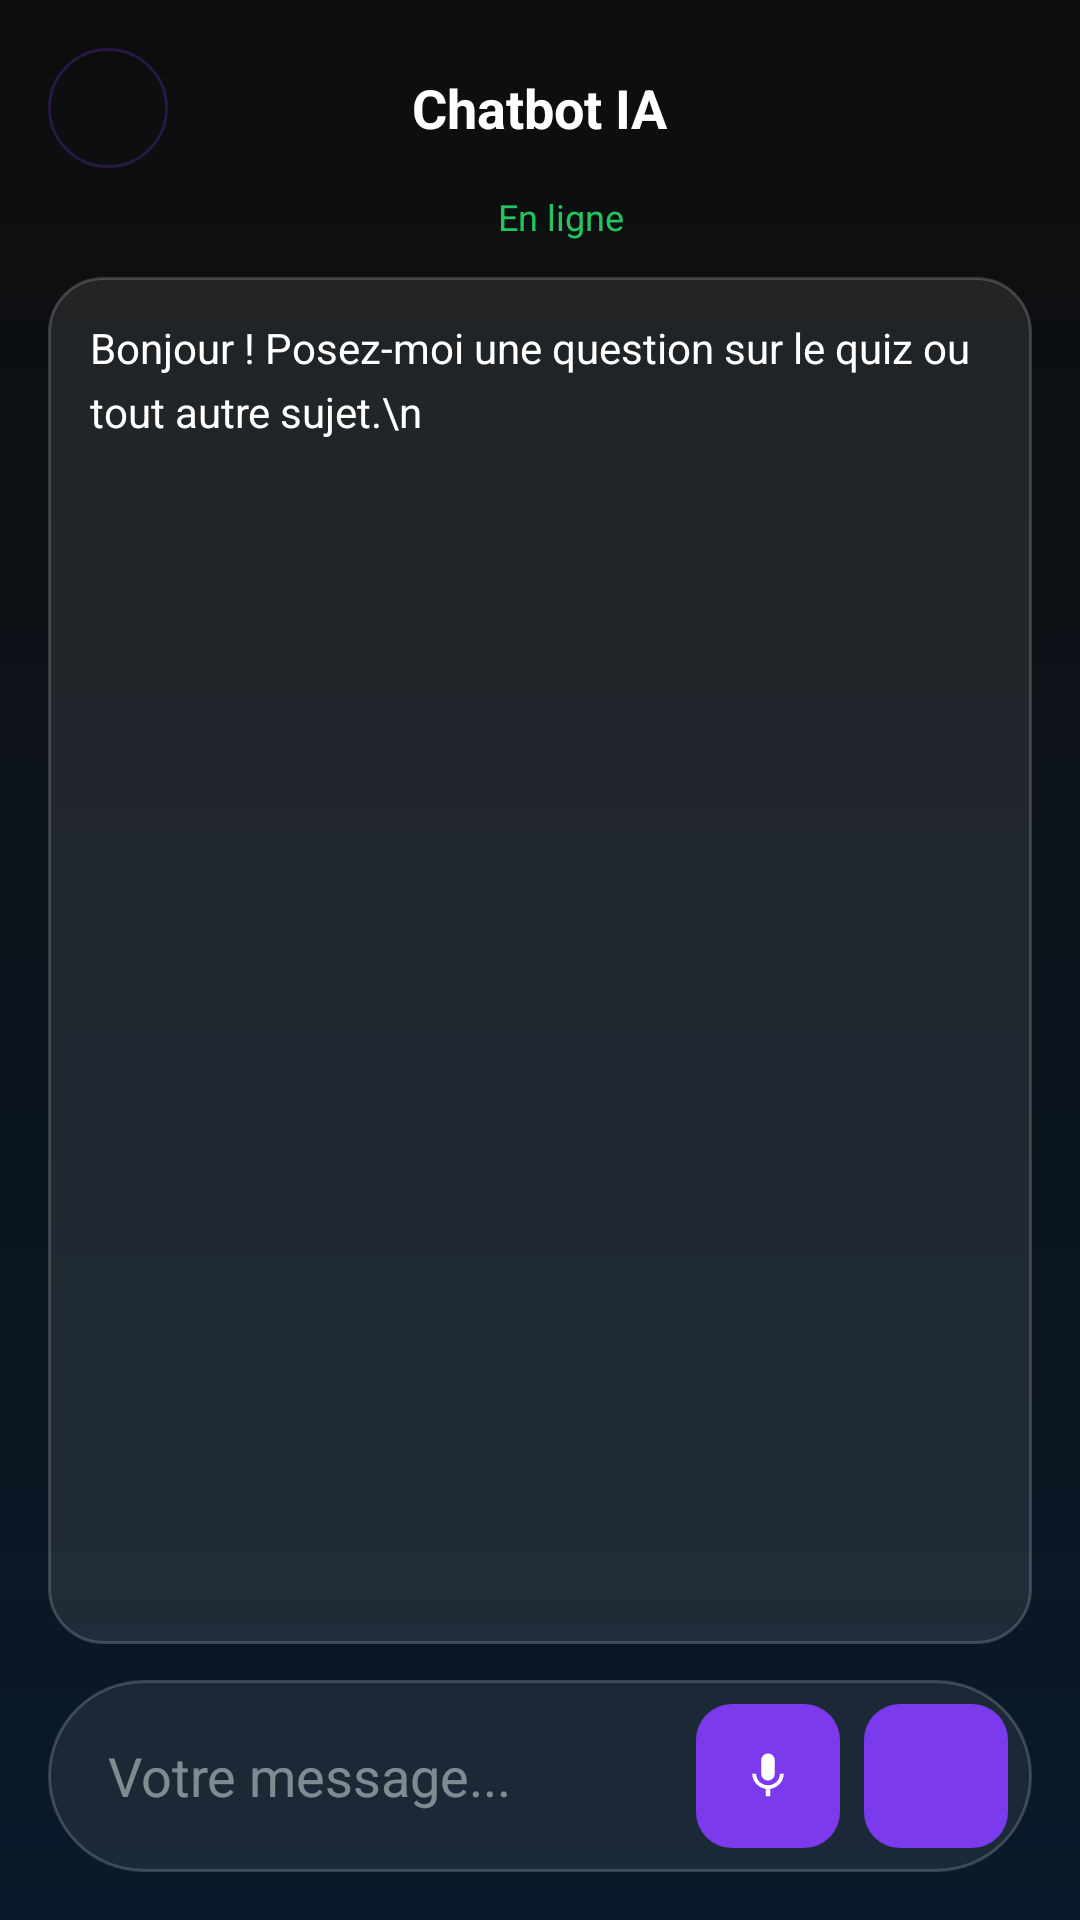

Where to tap for icons on this 1080 × 1920 app screen, as [x,y]:
Saisie vocale: [768,1776]
